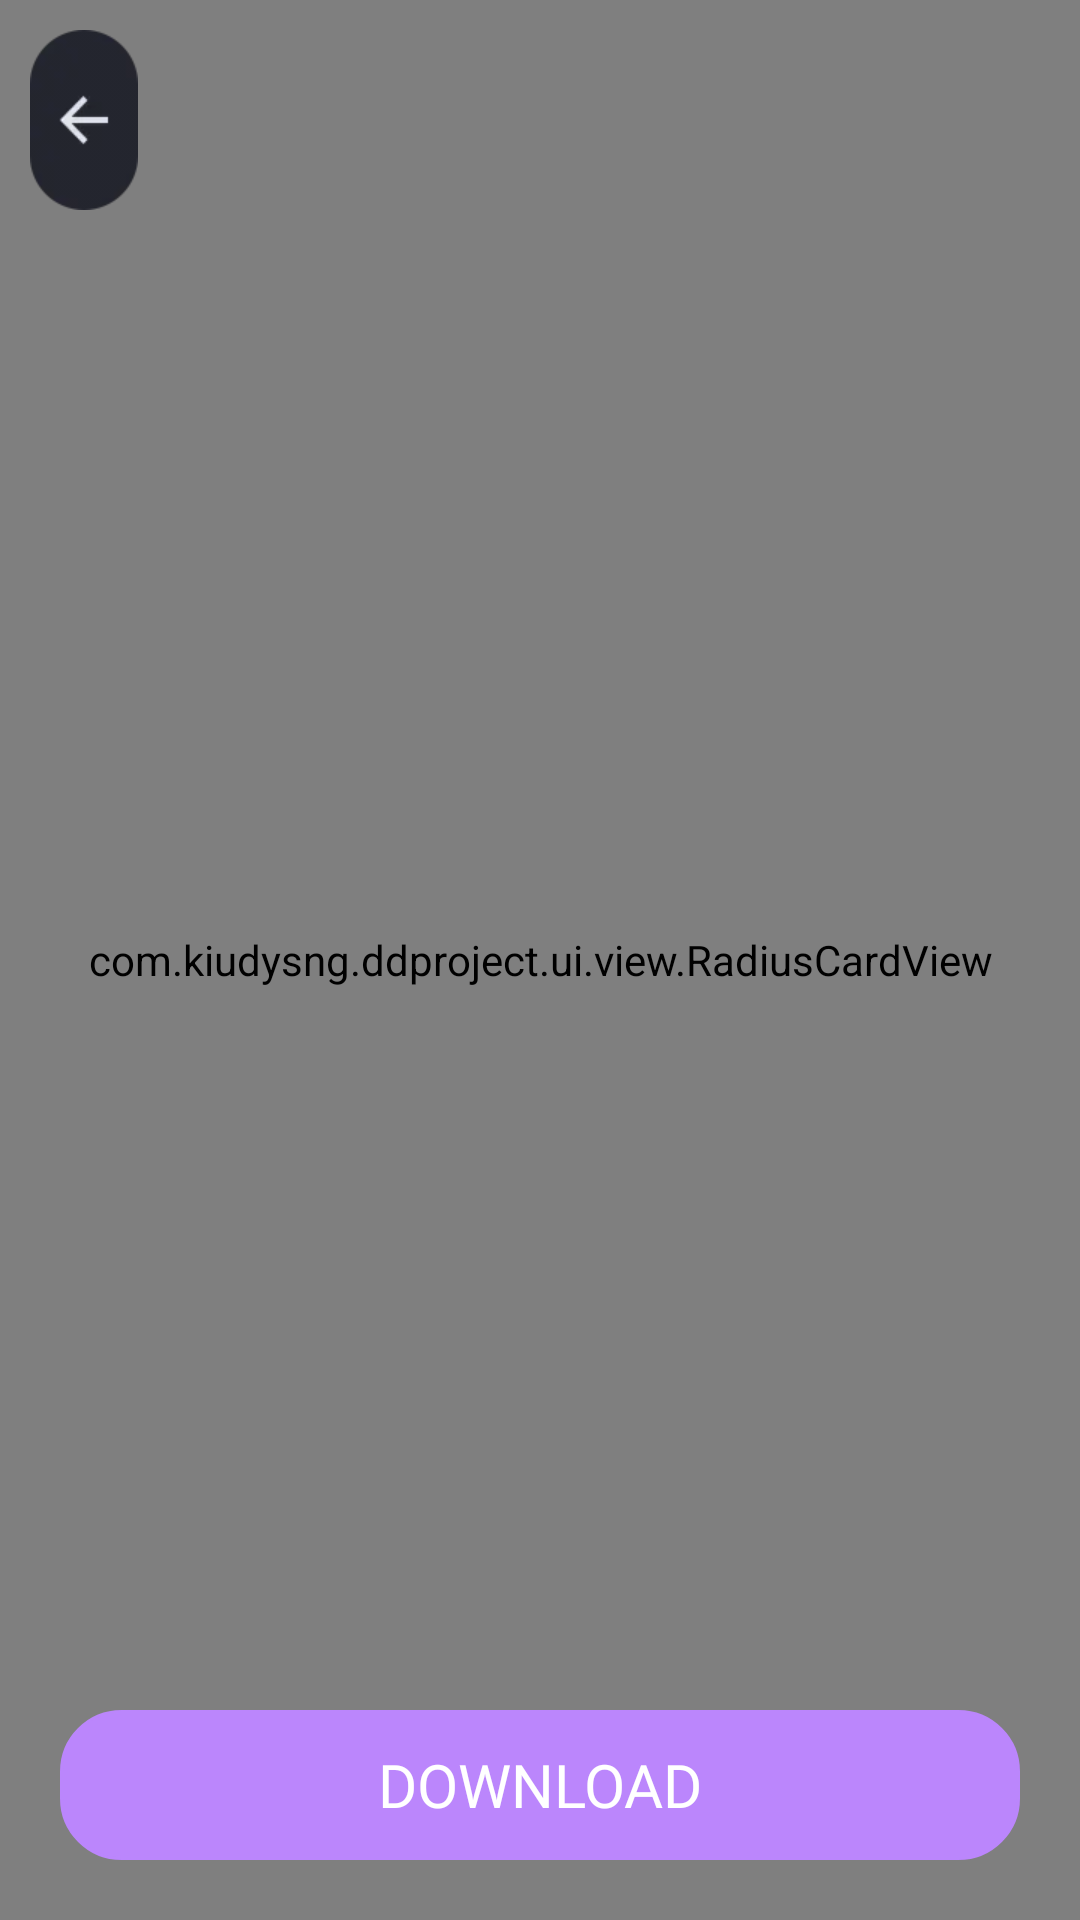

Icon bounding boxes for this 1080 × 1920 phone screenshot, format region(x1, y1, x2, y2):
text picture back: region(30, 30, 138, 210)
